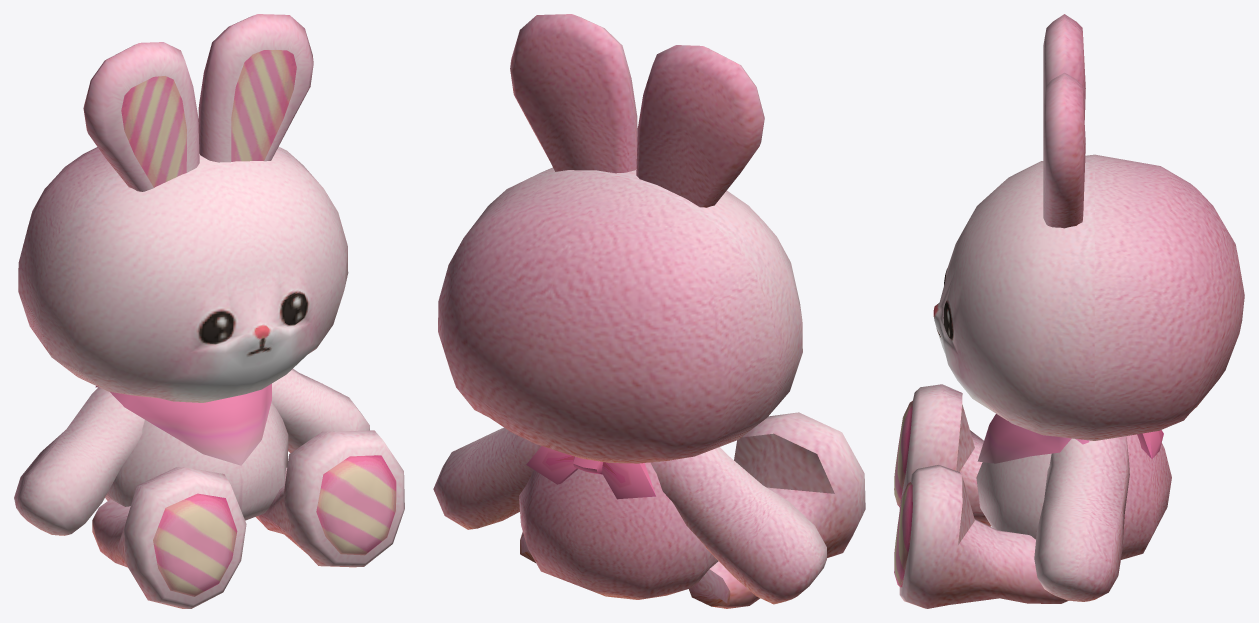
File: Doll_AT_Play_001.FBX
The picture shows the model from 3 angles, left to right: view 1: azimuth 30°, elevation 25°; view 2: azimuth 150°, elevation 25°; view 3: azimuth 270°, elevation 25°; orthographic projection. The views are drawn at different scales.
Visible parts, largest first — view 1: Doll_AT_Play_001; view 2: Doll_AT_Play_001; view 3: Doll_AT_Play_001.
Boxes of the visible parts, x1,y1,x2,y2 form: Doll_AT_Play_001: [14, 14, 404, 608]; Doll_AT_Play_001: [433, 14, 865, 608]; Doll_AT_Play_001: [894, 14, 1244, 608].
Size of the model in its own units: 3.76 by 5.36 by 3.3.
